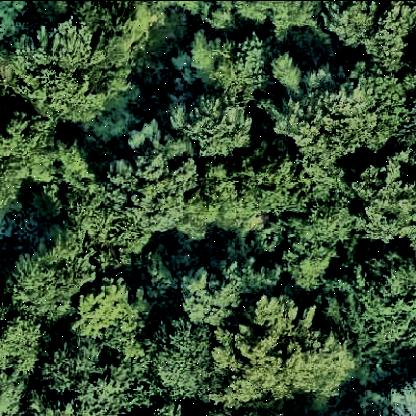tree-top: (207, 294, 351, 412), (4, 15, 135, 129), (271, 63, 387, 164), (105, 116, 199, 230), (327, 246, 416, 355), (4, 235, 96, 332), (197, 149, 305, 231), (147, 316, 235, 404), (189, 24, 272, 114), (352, 149, 416, 259), (173, 85, 255, 163), (72, 274, 145, 357), (52, 134, 113, 223), (1, 110, 71, 182), (178, 258, 244, 330), (33, 345, 103, 403), (364, 1, 416, 65), (316, 1, 382, 51), (280, 236, 329, 286)
